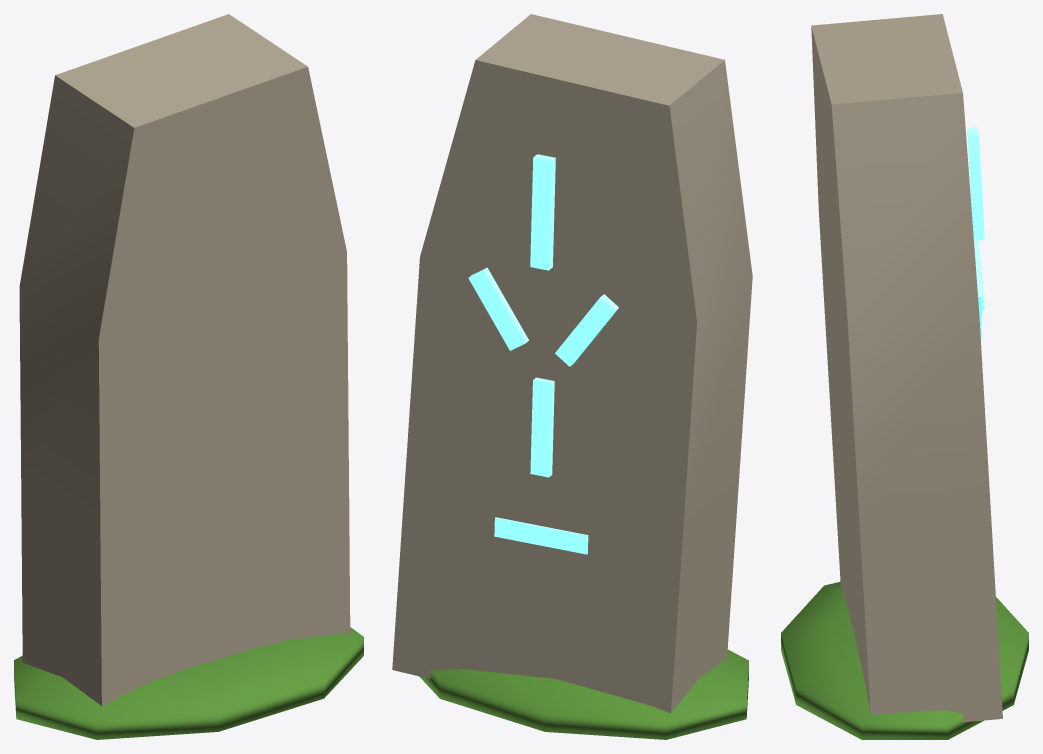
Rendered from RuneStone.glb.
The picture shows the model from 3 angles, left to right: view 1: azimuth 30°, elevation 25°; view 2: azimuth 150°, elevation 25°; view 3: azimuth 270°, elevation 25°; orthographic projection. The views are drawn at different scales.
Parts seen in each view (by area): view 1: Body; view 2: Body, Rune; view 3: Body, Rune.
Boxes of the visible parts, <box> form: Body: <box>14,14,363,739</box>; Body: <box>392,14,752,739</box>; Rune: <box>468,154,618,554</box>; Body: <box>781,14,1028,739</box>; Rune: <box>967,127,985,338</box>.
Bounding box in the file's own units: 2.21 × 4.19 × 1.5.
Materials: 2 (1 with a texture image).
